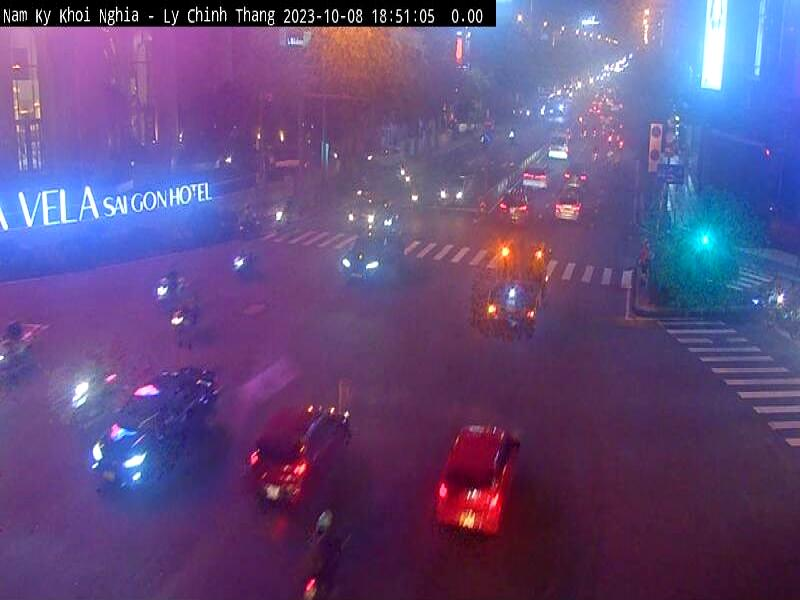car: (78, 358, 234, 504), (233, 362, 365, 514), (437, 405, 517, 534), (331, 219, 425, 320)
